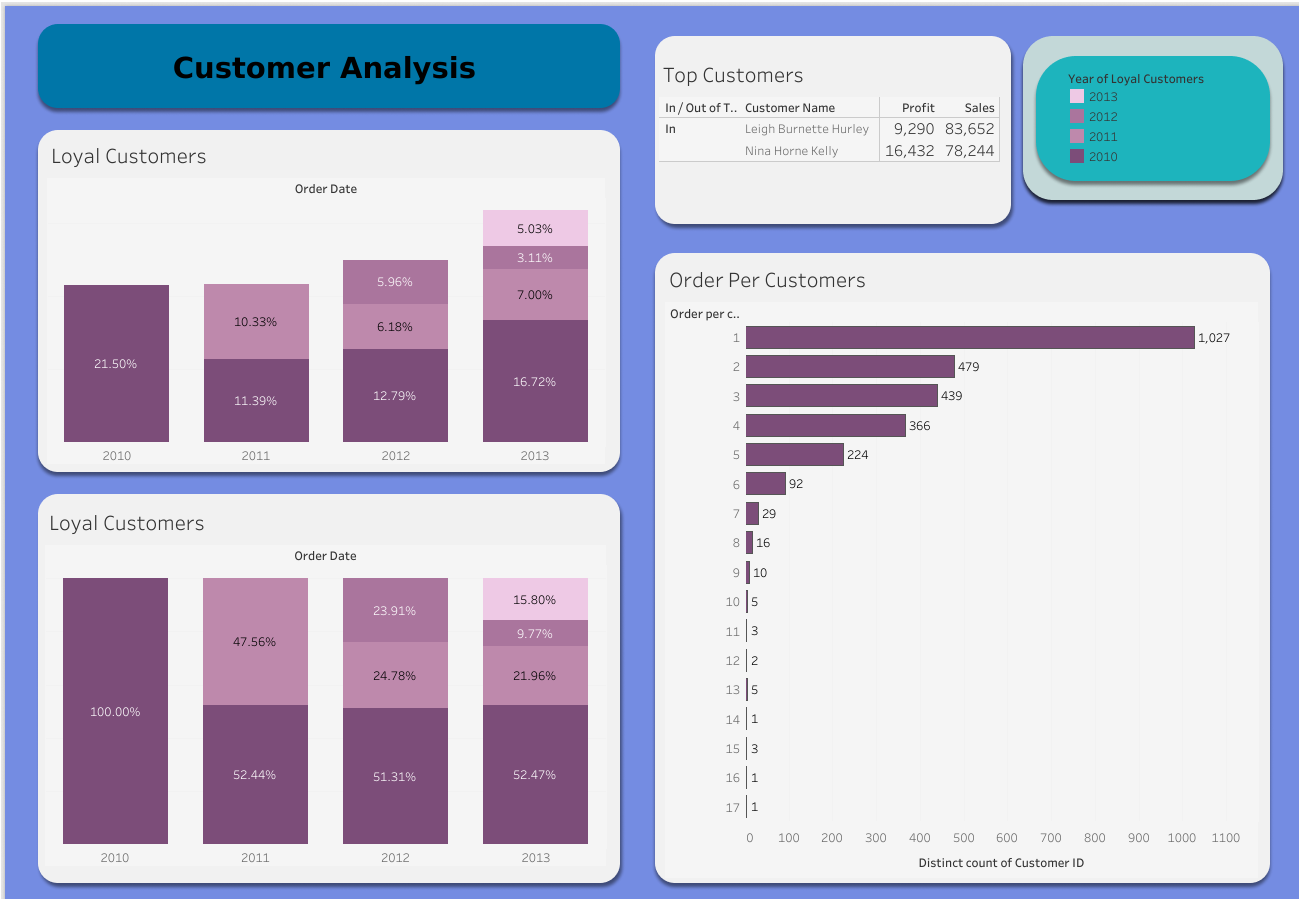

The dashboard page shown, as its layout file describes it:
{"tool":"tableau","page":{"name":"Customer Analysis","canvas":[1300,900],"ordinal":0},"visuals":[{"type":"worksheet","param":"Image/Election (Copy) (3).png","box":[1,2,1299,900]},{"type":"worksheet","box":[40,34,569,68]},{"type":"worksheet","title":"Top Customers","mark":"Automatic","rows":["Set 1","Customer Name"],"box":[659,54,350,144]},{"type":"worksheet","title":"Loyal Customers","mark":"Bar","cols":["Order Date"],"param":"[federated.0ah176d0ox5uv51gbola01vk91ev].[yr:Calculation_729301675851546625:ok]","box":[1067,67,184,98]},{"type":"worksheet","title":"Loyal Customers2","mark":"Bar","rows":["Sales"],"cols":["Order Date"],"box":[47,135,558,329]},{"type":"worksheet","title":"Orders Per Customer","mark":"Bar","rows":["Calculation_729301675852308482"],"cols":["Customer ID"],"box":[665,259,593,619]},{"type":"worksheet","title":"Loyal Customers","mark":"Bar","cols":["Order Date"],"box":[45,502,561,364]}]}

Visuals, with their boxes in screenshot pixels (x1, y1, x2, y2), scaled from the page's 1300x900 canvas onto the 1299x899 screenshot:
worksheet: pyautogui.locateOnScreen(1, 2, 1298, 898)
worksheet: pyautogui.locateOnScreen(40, 34, 609, 102)
"Top Customers" worksheet: pyautogui.locateOnScreen(658, 54, 1008, 198)
"Loyal Customers" worksheet (Bar marks): pyautogui.locateOnScreen(1066, 67, 1250, 165)
"Loyal Customers2" worksheet (Bar marks): pyautogui.locateOnScreen(47, 135, 605, 463)
"Orders Per Customer" worksheet (Bar marks): pyautogui.locateOnScreen(664, 259, 1257, 877)
"Loyal Customers" worksheet (Bar marks): pyautogui.locateOnScreen(45, 501, 606, 865)
